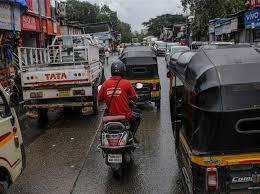helmet: (111, 60, 127, 79)
